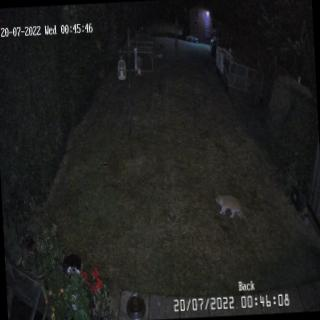cat: (215, 192, 248, 226)
